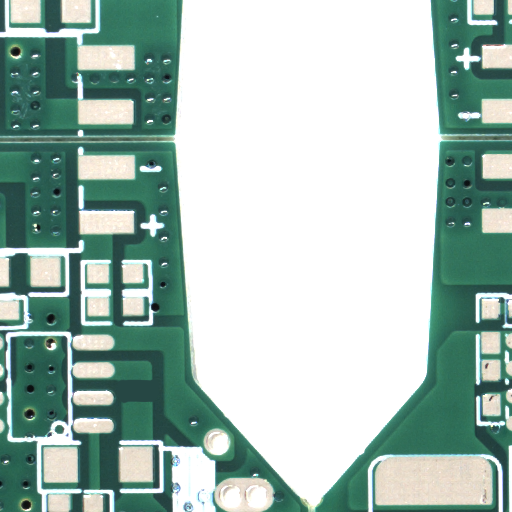Open_circuit: (137, 390, 176, 415)
